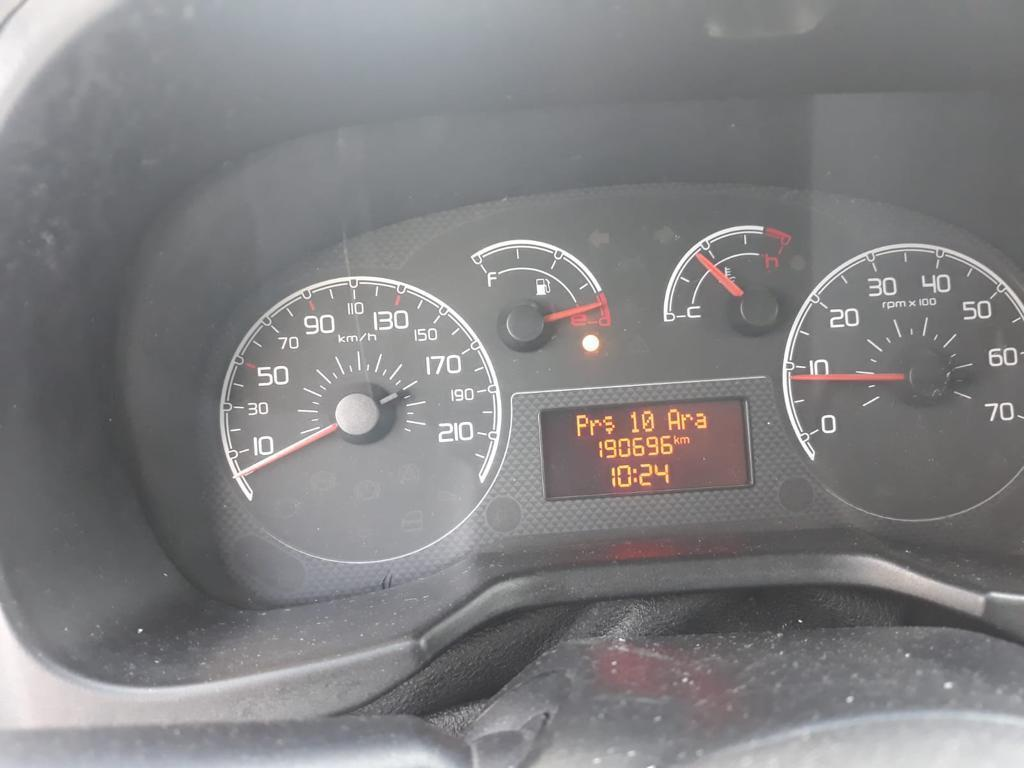0: (616, 463, 631, 488), (640, 409, 655, 432), (617, 437, 631, 458)
1: (628, 409, 640, 433), (608, 465, 616, 488), (595, 439, 603, 459)
2: (638, 462, 653, 486)
4: (654, 462, 669, 484)
6: (631, 436, 645, 457), (659, 434, 673, 454)
9: (645, 435, 659, 456), (603, 438, 617, 459)
X: (666, 407, 680, 431), (574, 413, 588, 437), (602, 414, 616, 434), (693, 411, 707, 429), (680, 412, 693, 431), (589, 418, 602, 436), (680, 435, 689, 445), (632, 467, 637, 483), (673, 433, 679, 445)
odometer: (537, 393, 755, 501)
